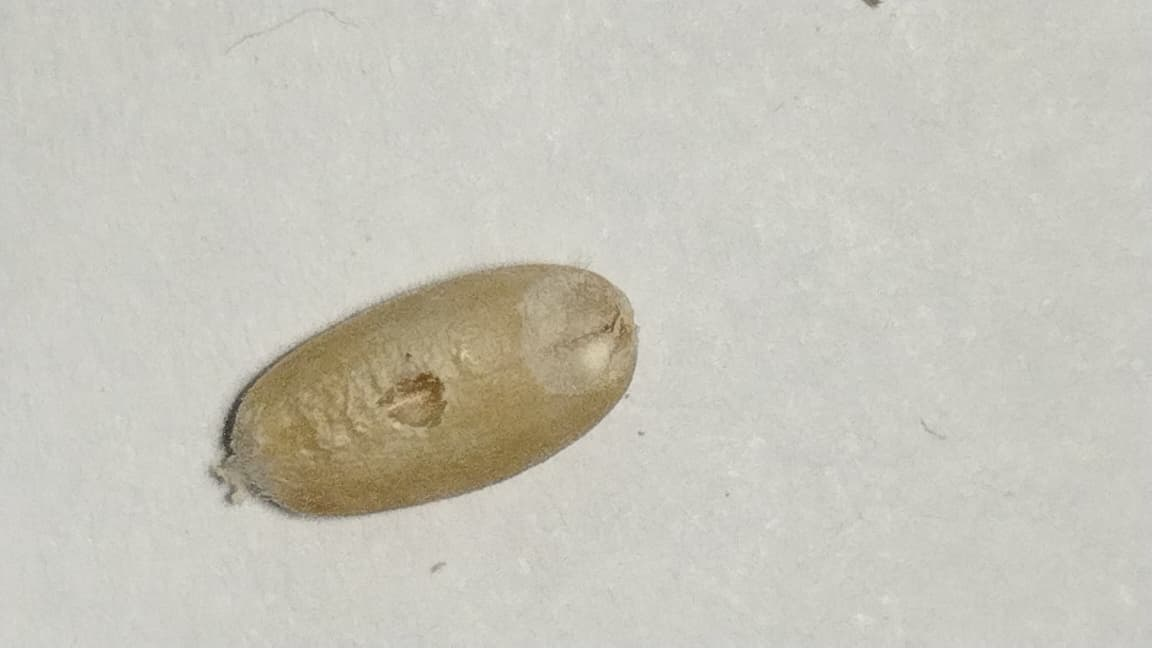damage: (225, 265, 634, 509)
insectdamage: (322, 345, 510, 465)
